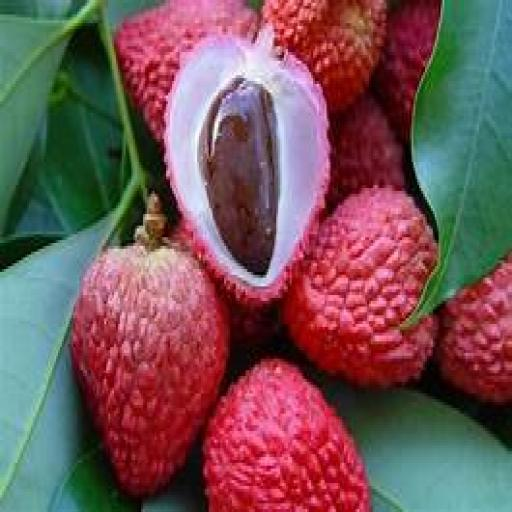lychee: (72, 197, 227, 494), (165, 29, 330, 303), (283, 189, 436, 387), (203, 359, 370, 511), (116, 0, 258, 141), (263, 0, 386, 109), (439, 255, 511, 402), (375, 0, 440, 141), (327, 96, 405, 208), (221, 290, 282, 347), (227, 298, 282, 347)
